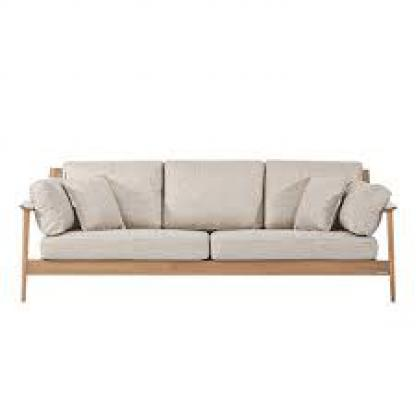sofa: (19, 159, 398, 311)
